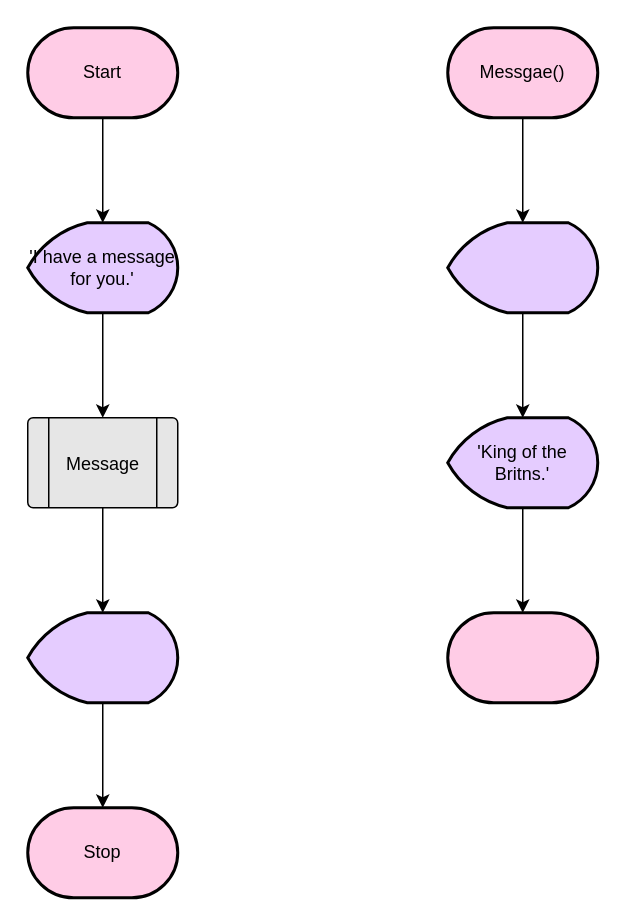
Image size: 624x924. Some labels were removed from this diagram. Each missing label, with the centre of its shape:
"'Goodbye.'" belongs at point 102,657.
"'I am Arthur'" belongs at point 522,267.
"Retrun" belongs at point 522,657.
